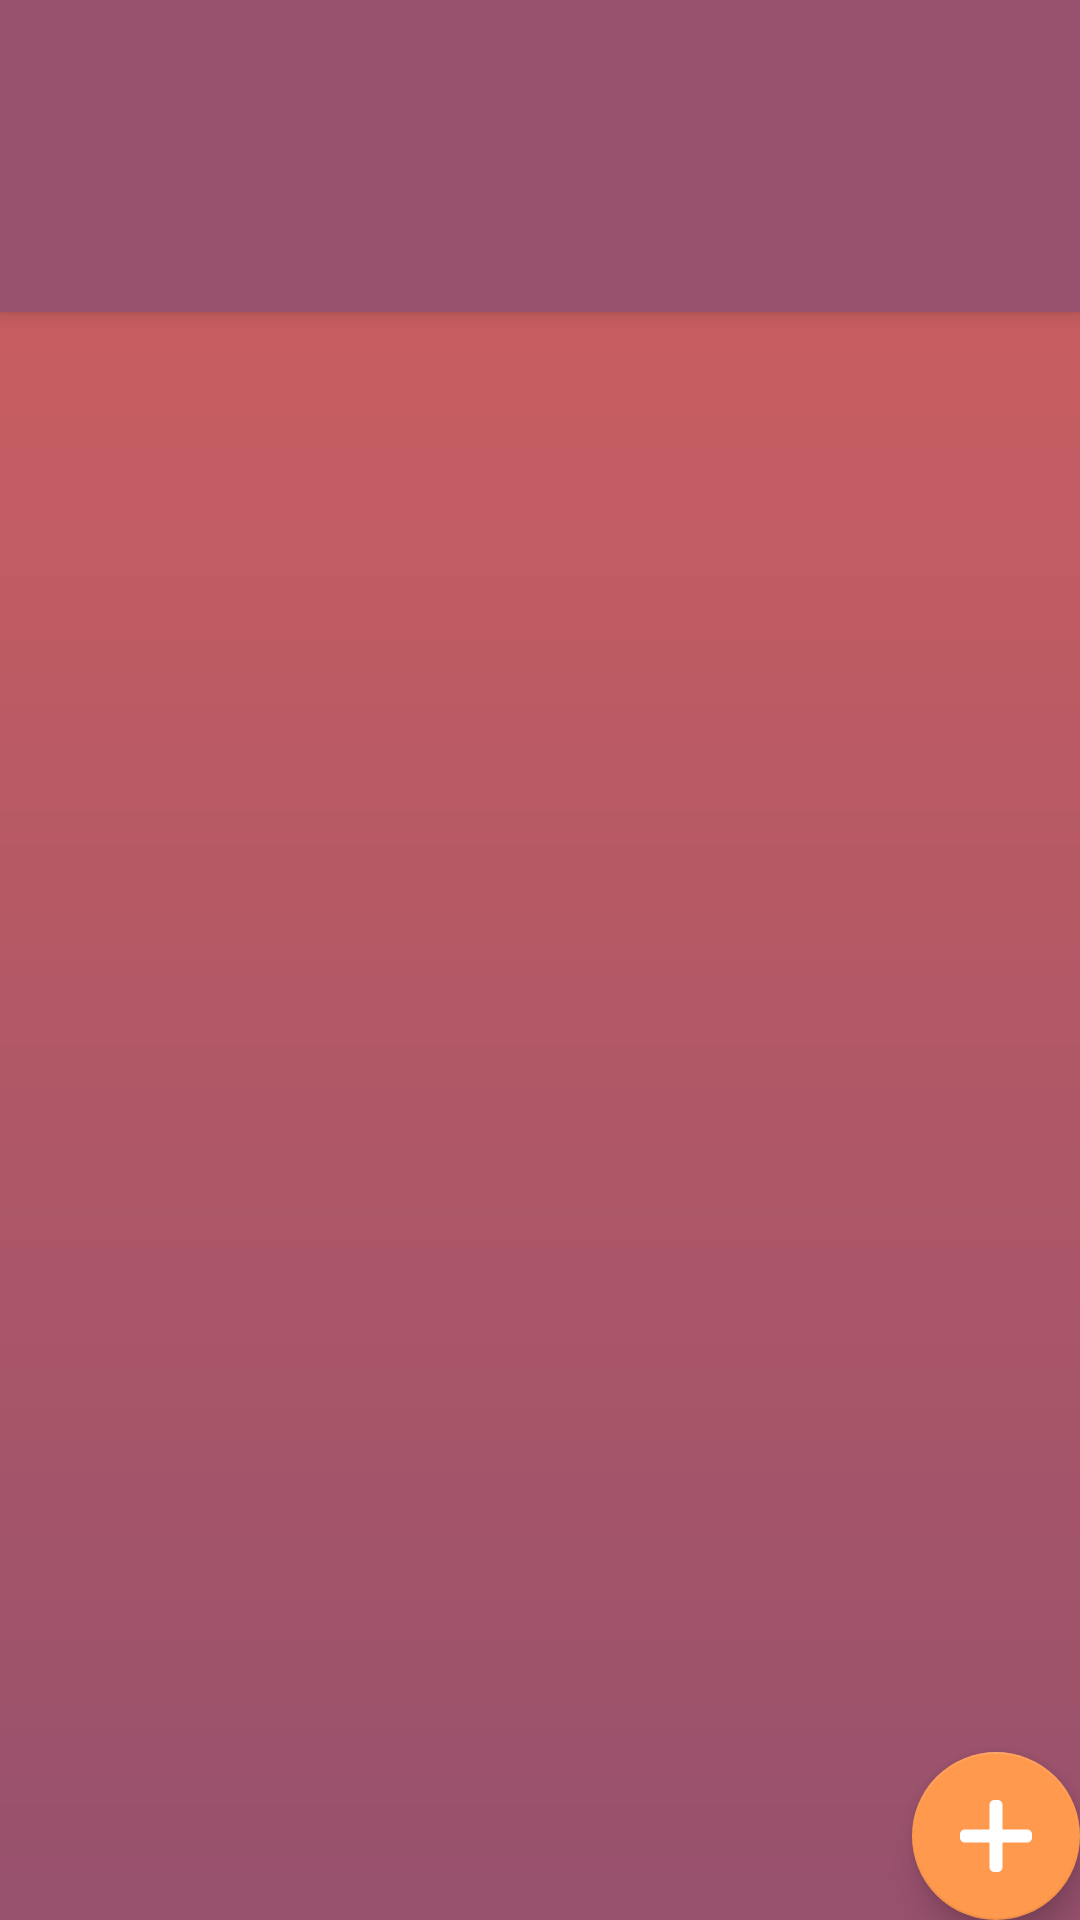

Icons on this 1080w x 1920h Android screen, each with the point to tap as point (x, y):
plus: point (996, 1836)
